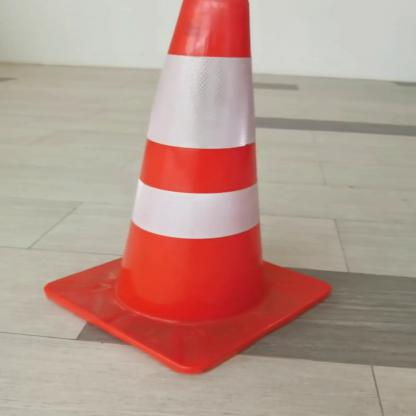cone: (32, 1, 340, 377)
